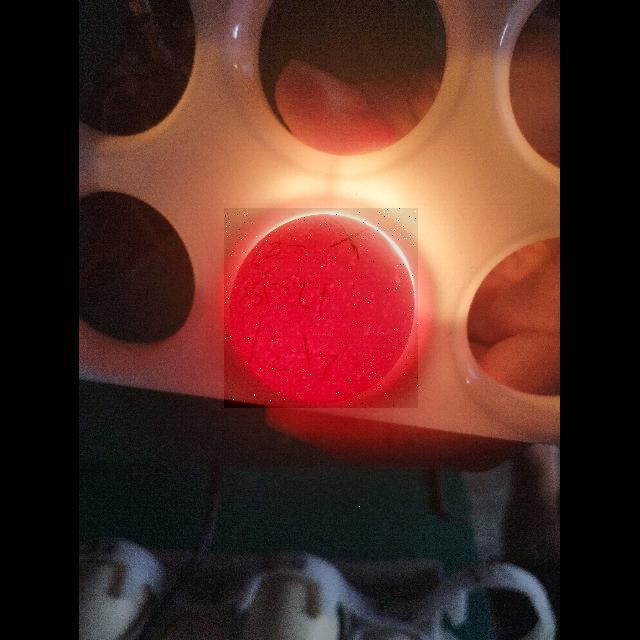Infertile: (224, 208, 418, 408)
